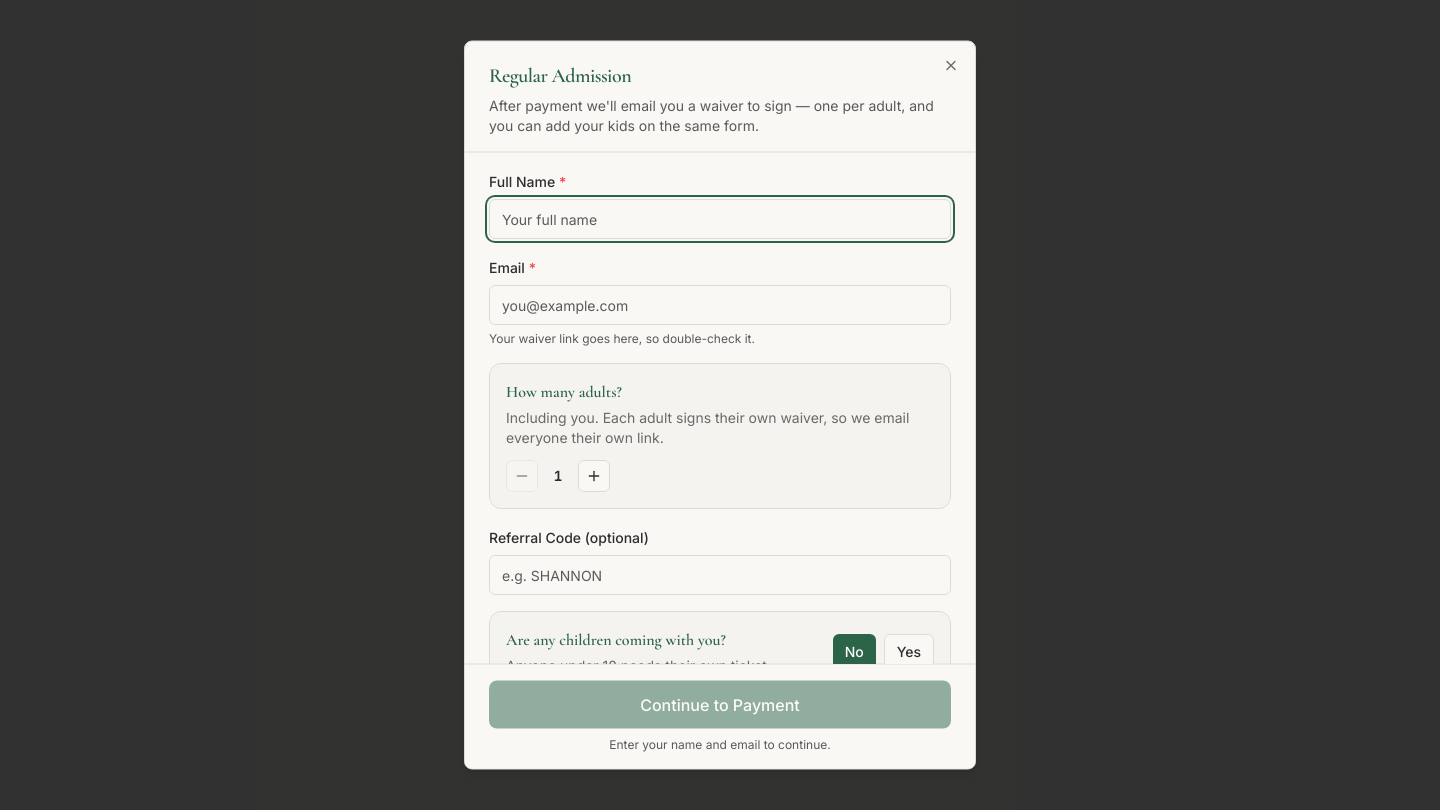
Test: adult quantity › blocks submit until every additional adult is complete
Later steps or results of the test are not shown.
Type "Test Buyer" into the field with placeholder "Your full name". click: (720, 218)
box: [489, 198, 951, 238]
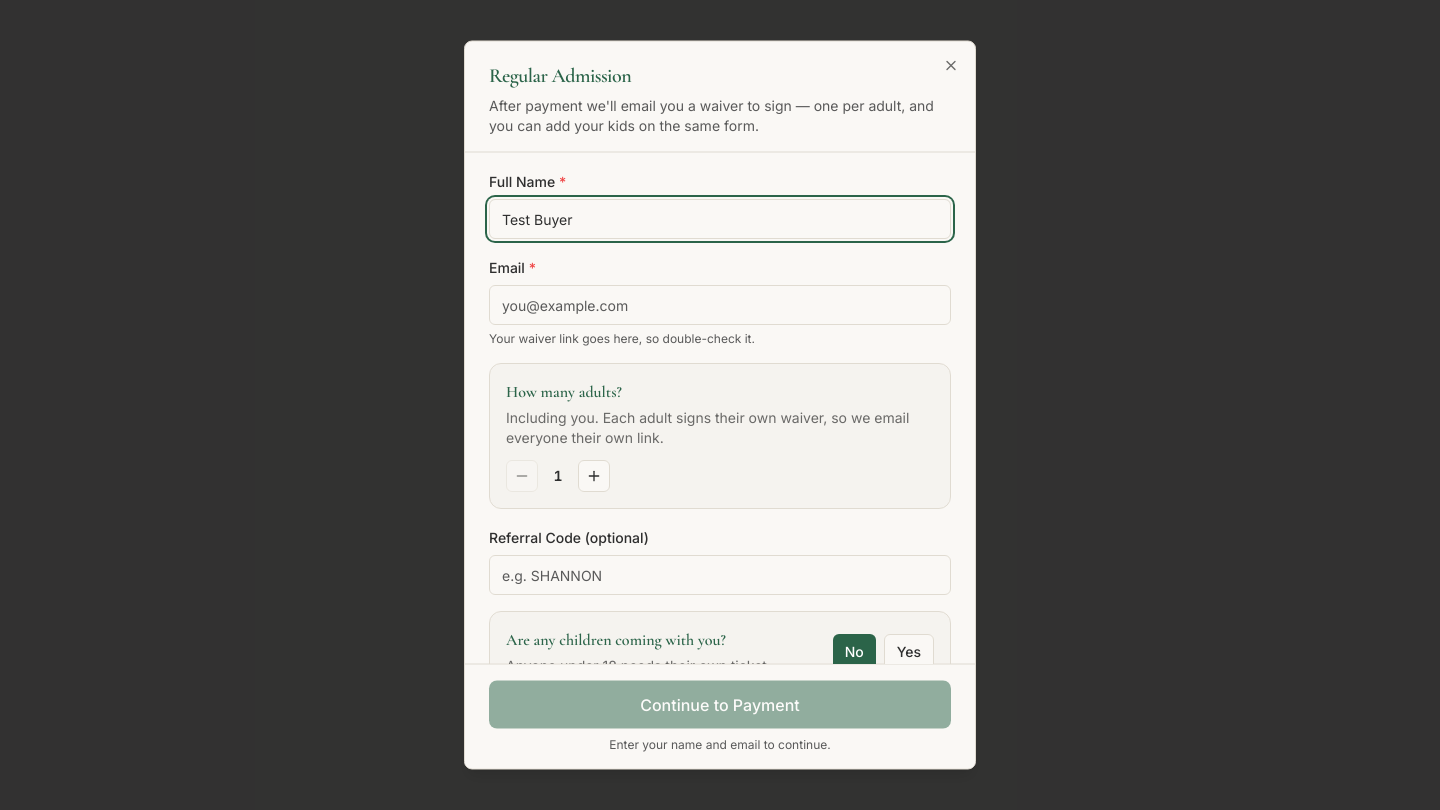
Type "buyer@example.com" into the field with placeholder "you@example.com". click: (720, 304)
box: [489, 284, 951, 324]
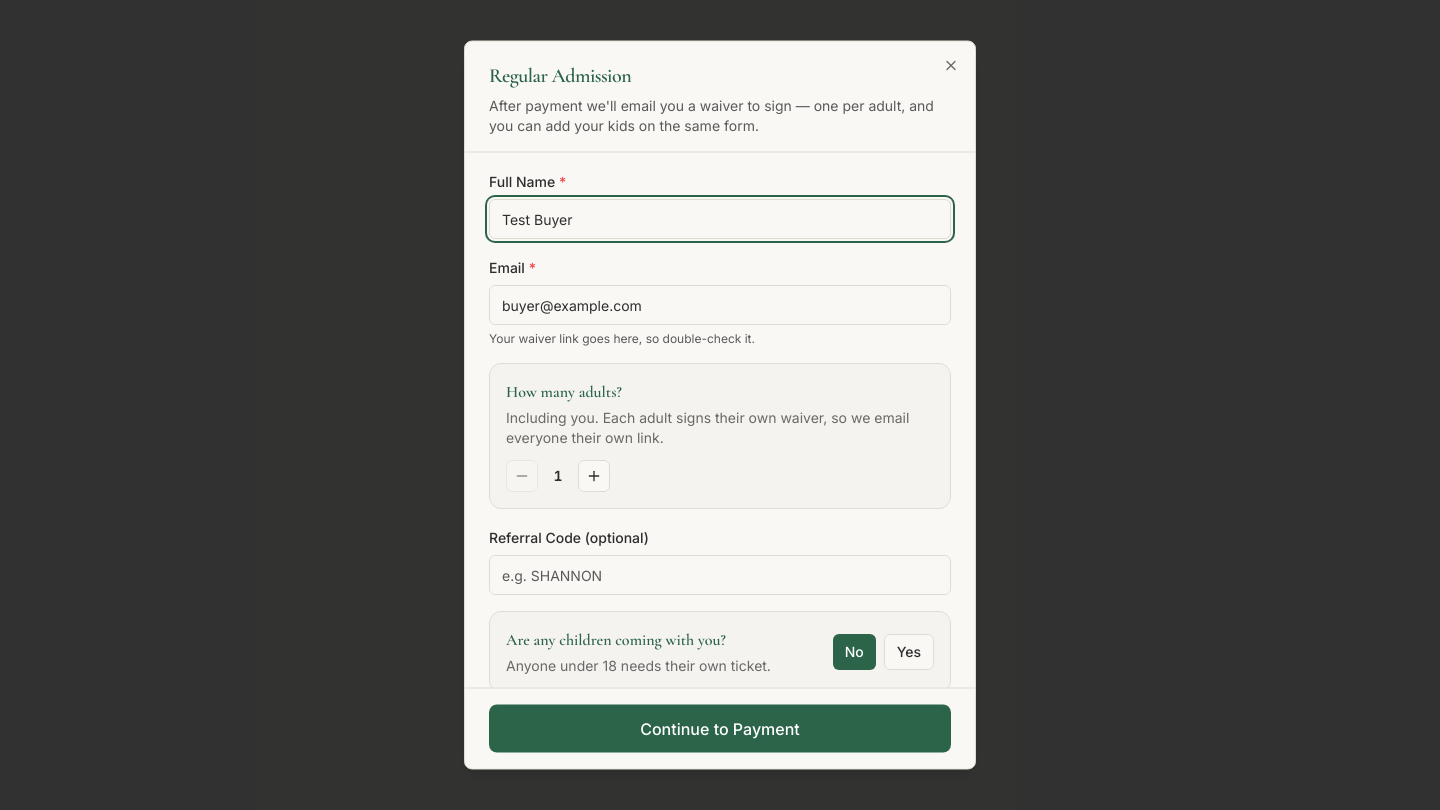
Click the button named "One more adult ticket". click: click(594, 476)
box: [578, 460, 610, 492]
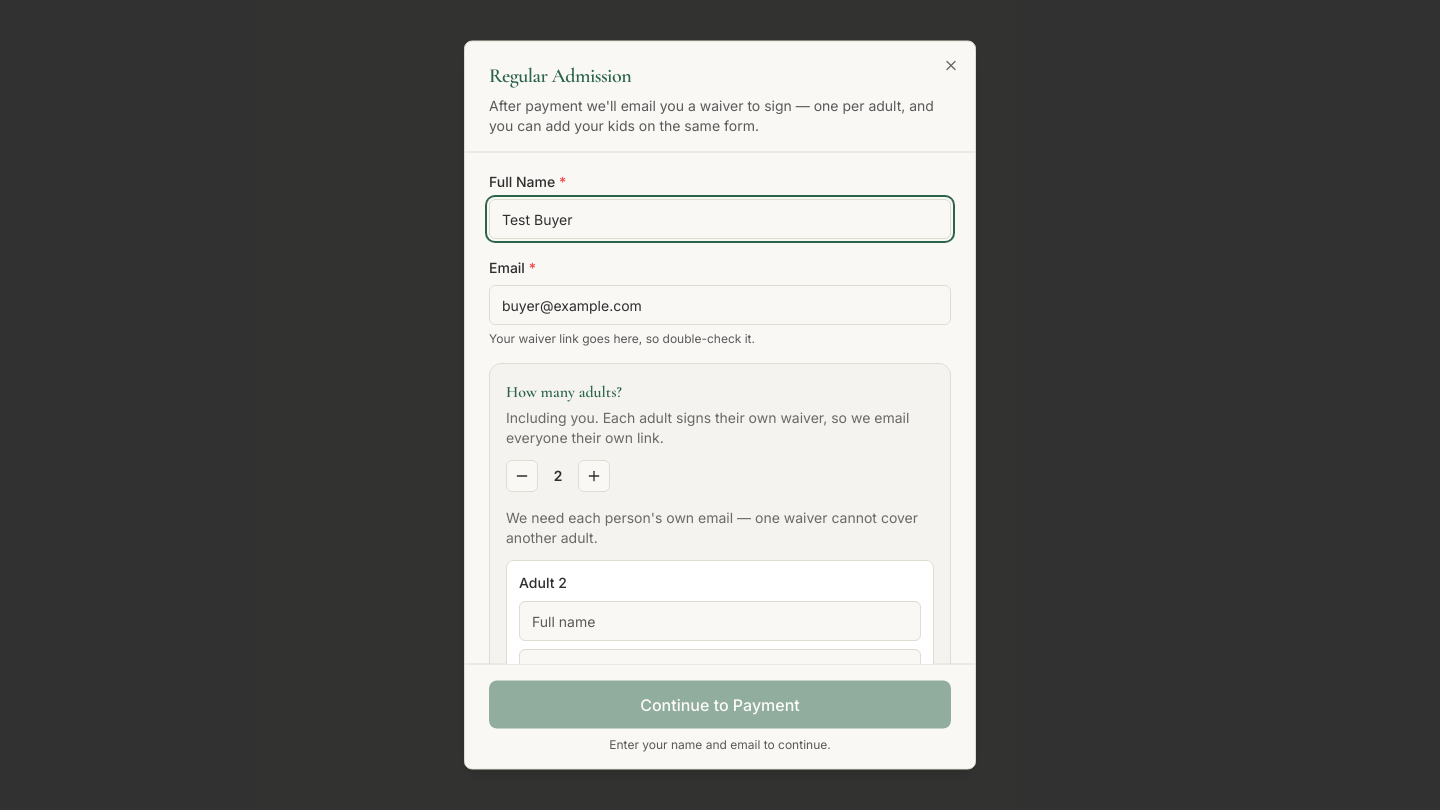
Expected: the button "Continue to Payment" is disabled, [489, 680, 951, 728]
Type "Ada" into the field with test id "adult-name-2". click: (720, 620)
box: [519, 600, 921, 640]
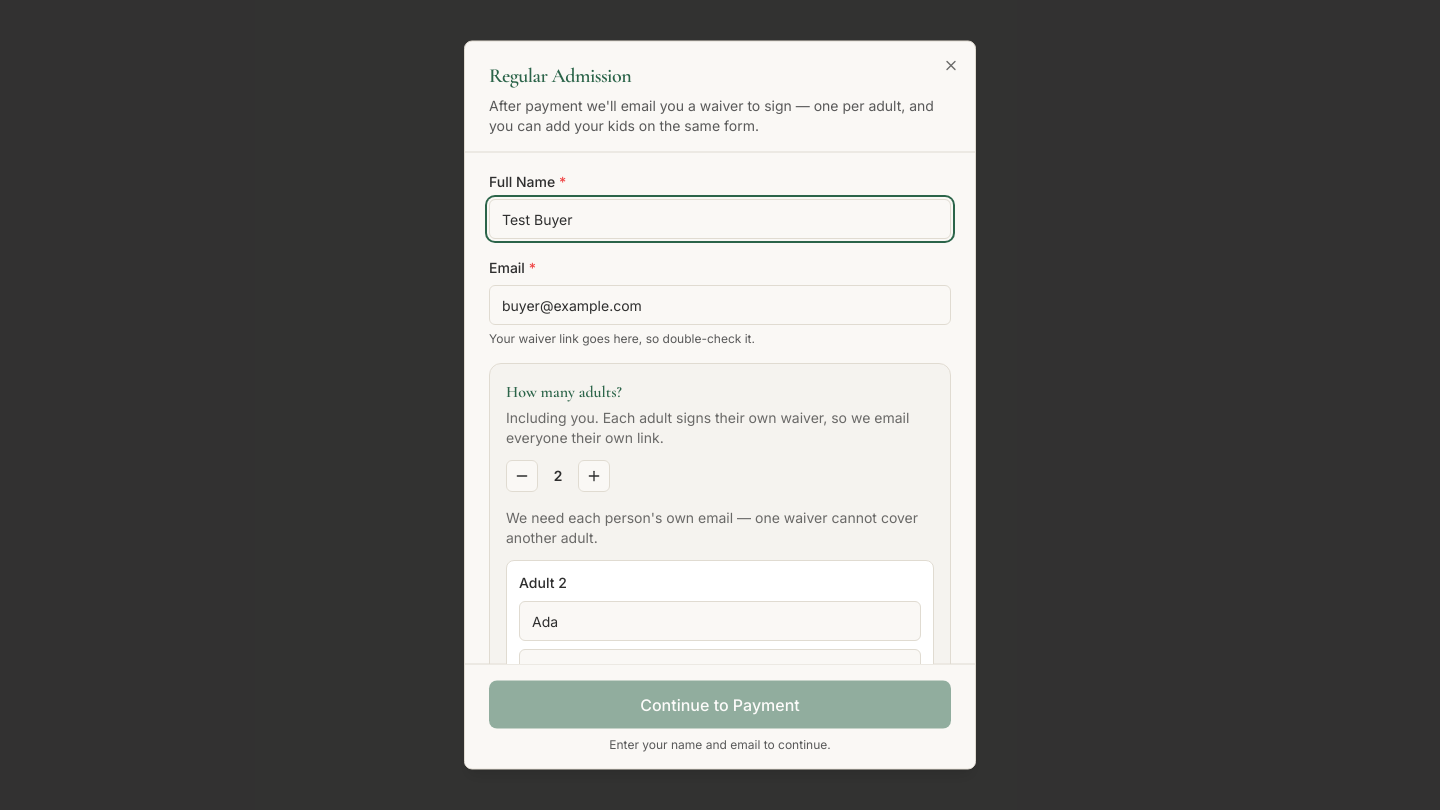
Expected: the button "Continue to Payment" is disabled, [489, 680, 951, 728]
